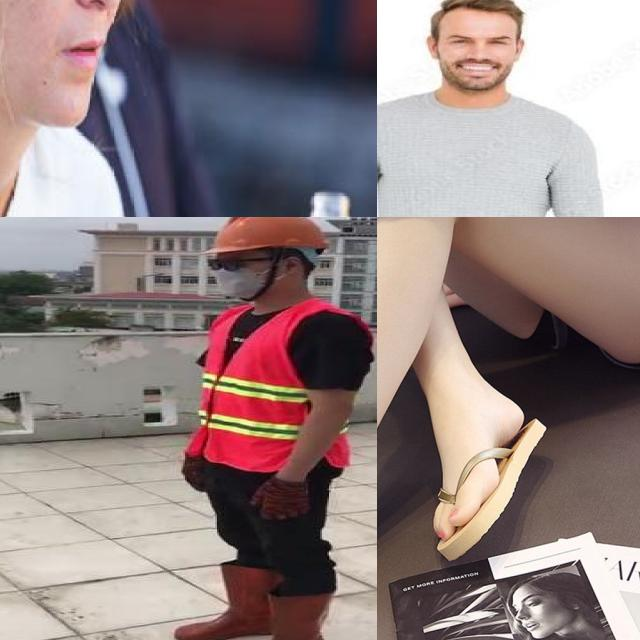No_Ear-Protection: (418, 28, 445, 67), (516, 34, 529, 68)
No_Glasses: (444, 28, 516, 53)
Sandals: (377, 389, 559, 640)
boots: (172, 562, 279, 640), (224, 595, 330, 640)
face_mask: (206, 252, 268, 296)
face_nomask: (27, 0, 141, 91), (443, 47, 512, 89)
glasses: (200, 254, 250, 275)
hand_glove: (249, 478, 308, 520)
head_helmet: (211, 217, 329, 253)
person: (162, 217, 377, 640), (377, 0, 610, 217), (0, 0, 183, 217)
vest: (192, 304, 350, 474)
